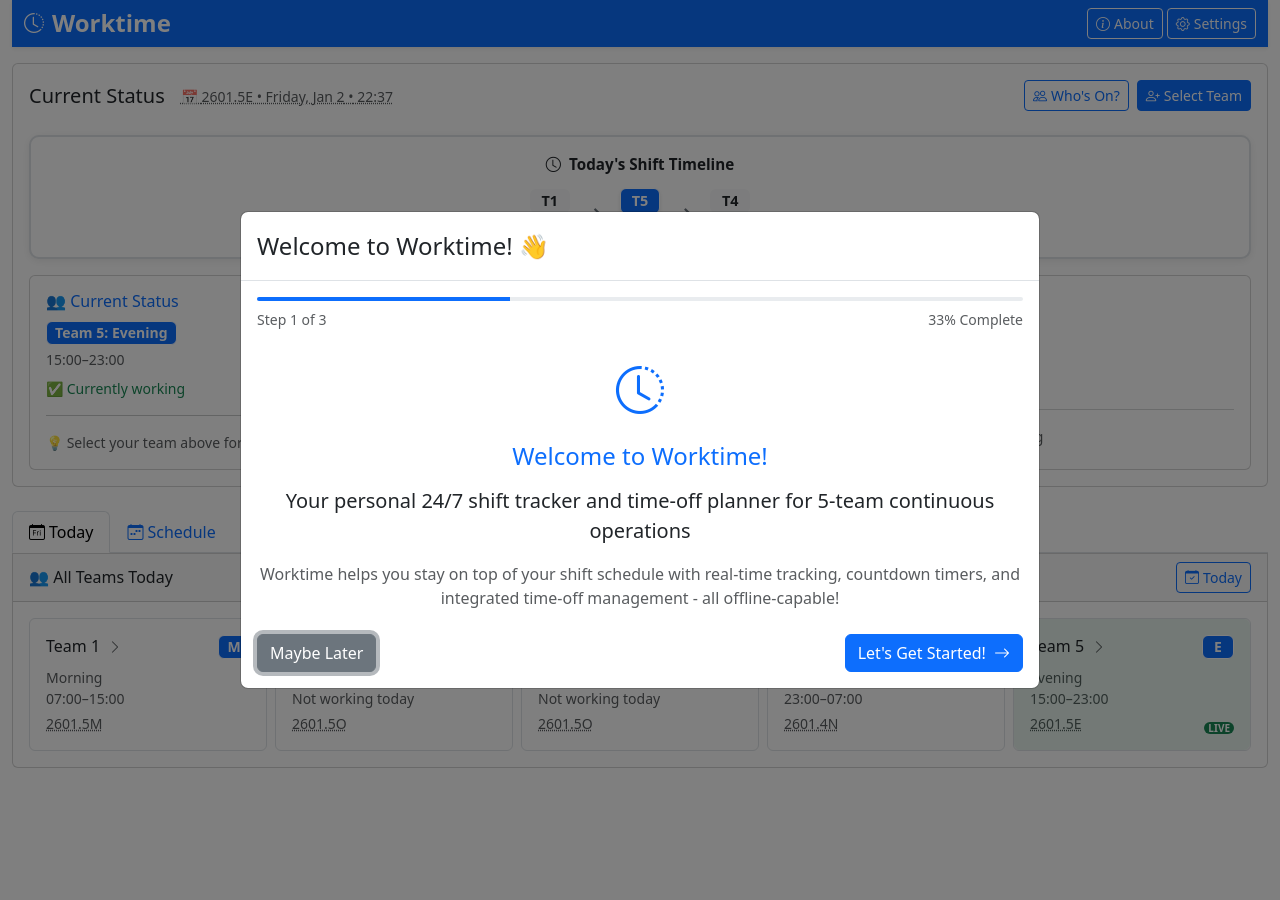
Test: WelcomeWizard › Integration tests › shows correct progress and disables buttons when loading
Expected: the text "Welcome to Worktime! 👋" is shown, [257,228,549,264]
Expected: the text "Step 1 of 3" is shown, [257,309,326,330]
Note: Navigate to features step
Step 1. Click the button "Let's Get Started!" → {"x": 934, "y": 653}, box [845,634,1023,672]
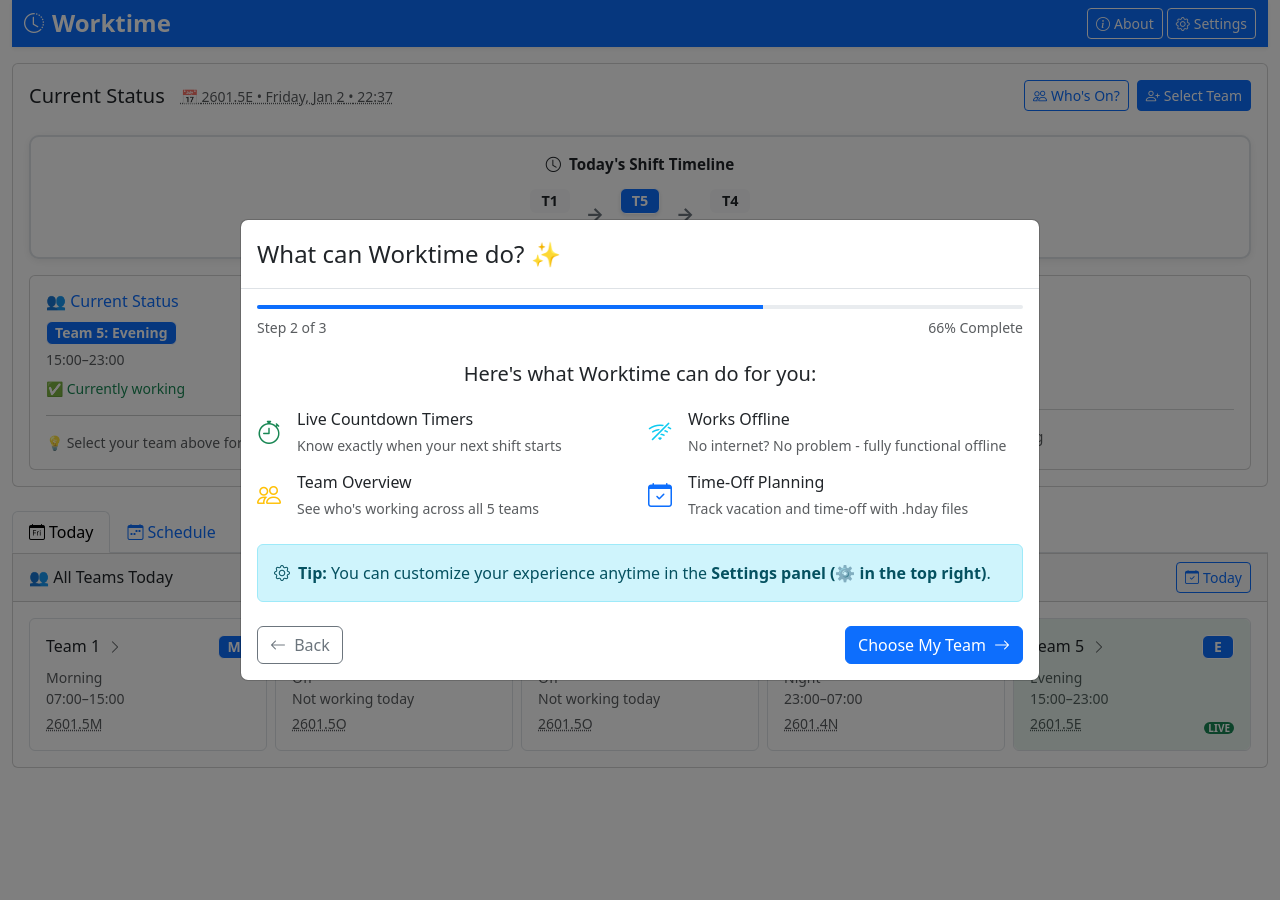
Result: the text "Step 2 of 3" is shown at [257,317,326,338]
Note: Navigate to team selection step
Step 2. Click the button "Choose My Team" → {"x": 934, "y": 645}, box [845,626,1023,664]
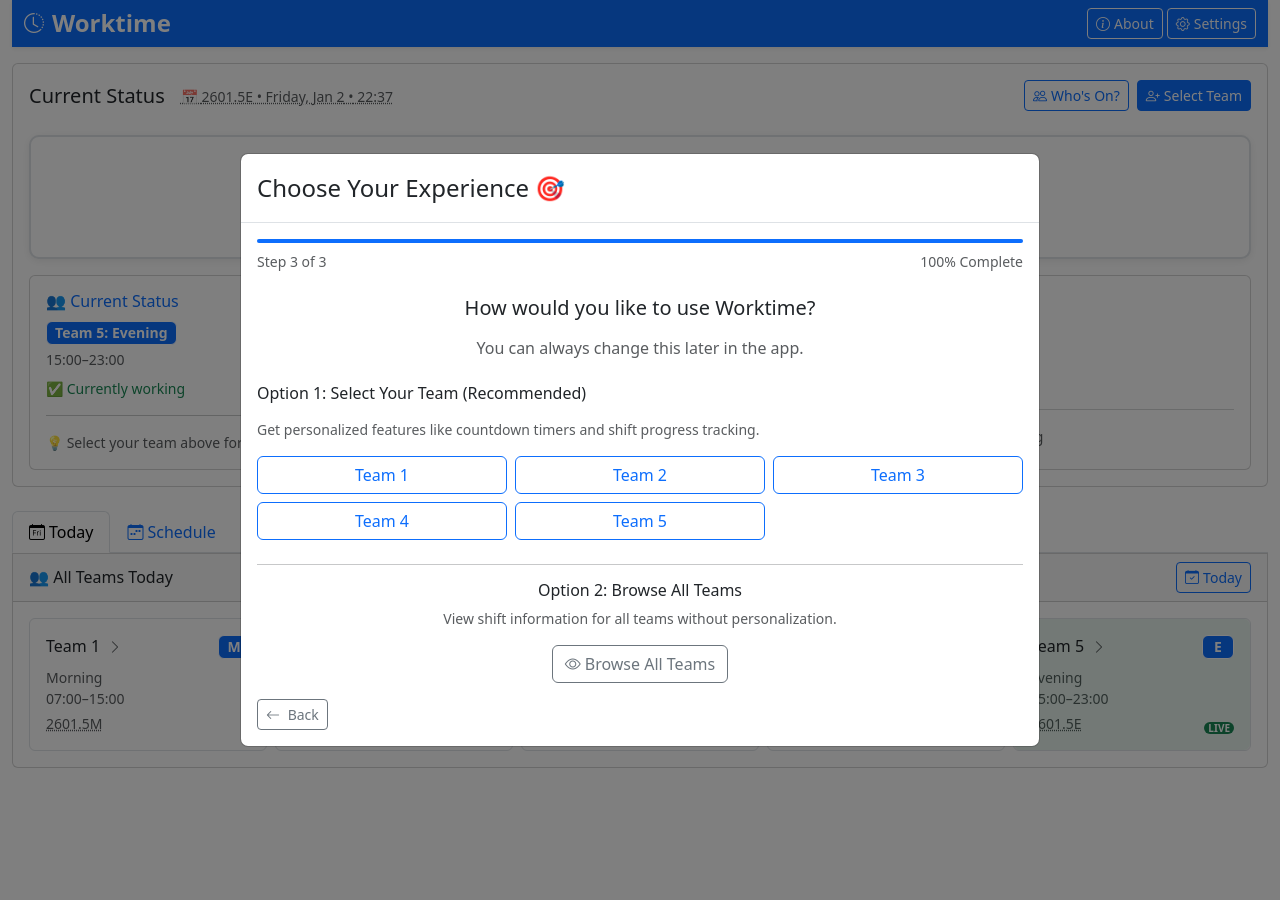
Result: the text "Step 3 of 3" is shown at [257,251,326,272]
